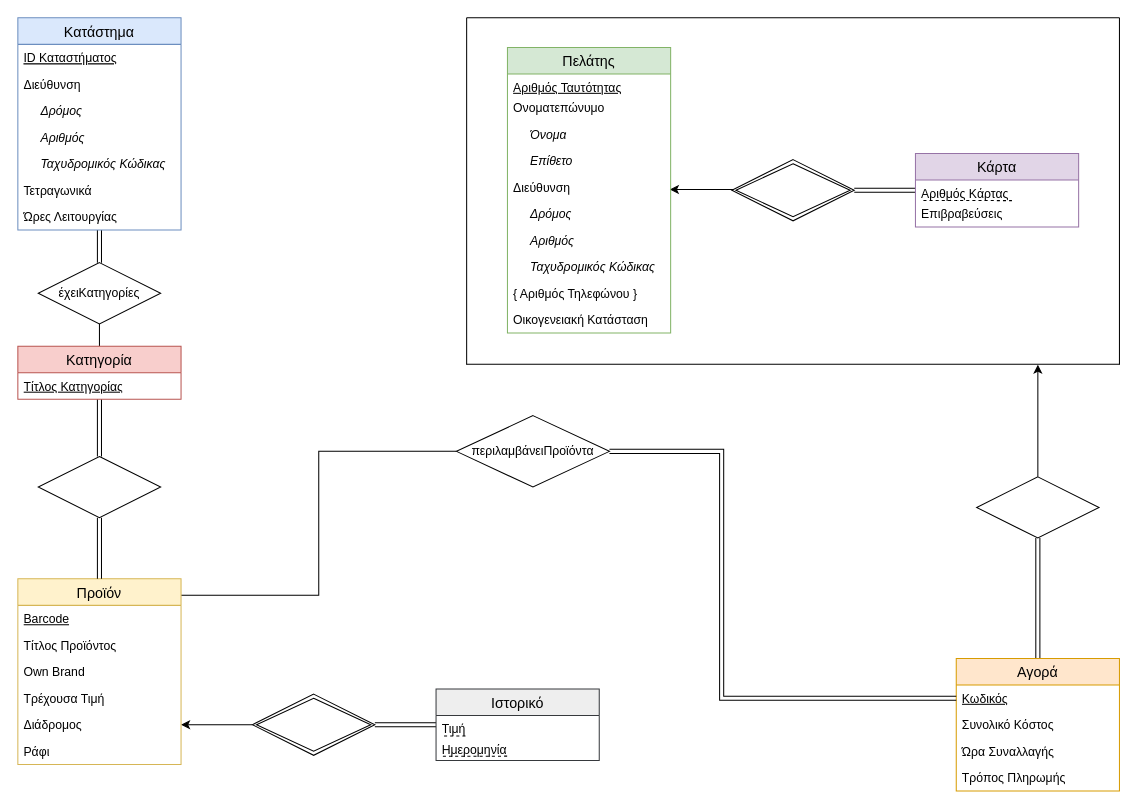
Some shapes in this 1138 by 812 pixel diagram are drawn without their labels. The shapes that lost their labels are listed below. From the top down, each one's centre as x and y in pixels, then its label:
point (792, 190): έχειΚάρτα
point (99, 486): έχειΠροϊόντα
point (1037, 507): κάνειΑγορά
point (313, 724): έχειΕξέλιξη
